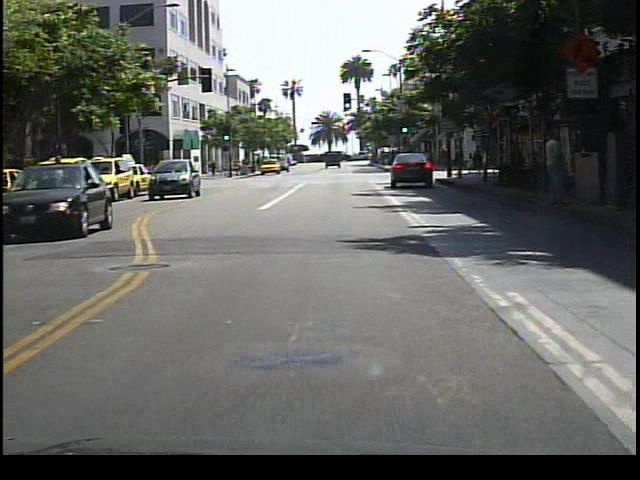person: (540, 126, 571, 211), (46, 147, 68, 211)
